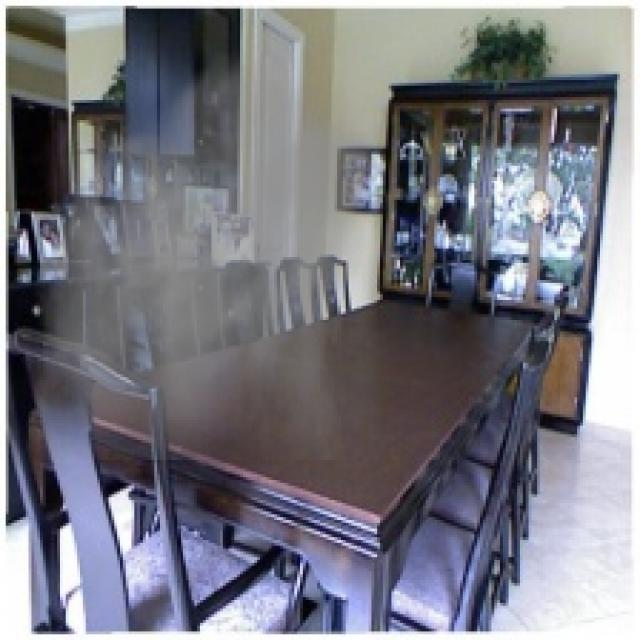smoke: (34, 37, 377, 460)
